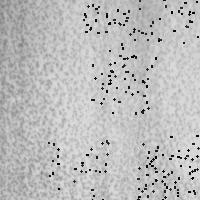pitted_surface: (1, 1, 199, 199), (48, 140, 107, 199), (137, 135, 197, 190), (91, 56, 147, 112), (106, 13, 159, 71), (137, 165, 195, 200), (80, 0, 139, 33), (163, 0, 200, 42)
